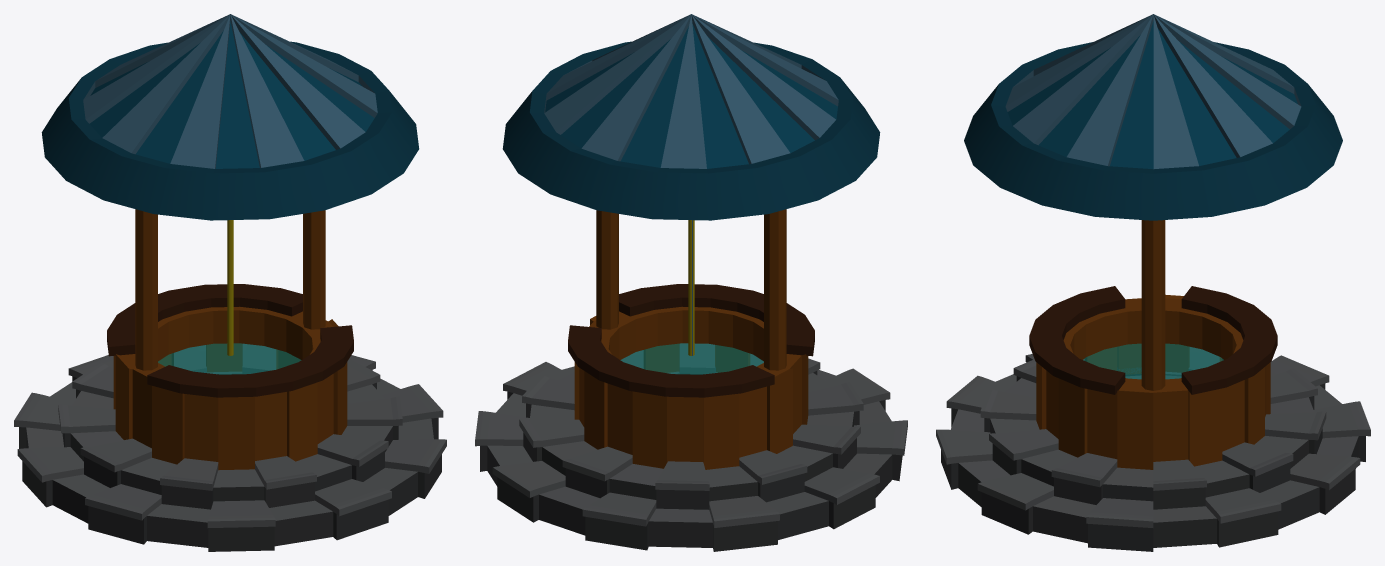
File: Prop_Moat.fbx
3 renders of one model, left to right at view 1: azimuth 30°, elevation 25°; view 2: azimuth 150°, elevation 25°; view 3: azimuth 270°, elevation 25°, orthographic.
Parts seen in each view (by area): view 1: pCylinder2, pCylinder3; view 2: pCylinder2, pCylinder3; view 3: pCylinder2, pCylinder3.
Boxes of the visible parts, bbox=[...] form: pCylinder2: bbox=[14, 209, 446, 551]; pCylinder3: bbox=[41, 14, 419, 355]; pCylinder2: bbox=[475, 209, 907, 551]; pCylinder3: bbox=[502, 14, 880, 355]; pCylinder2: bbox=[936, 220, 1370, 551]; pCylinder3: bbox=[964, 14, 1342, 220].
Size of the model in its own units: 330 by 376 by 330.
